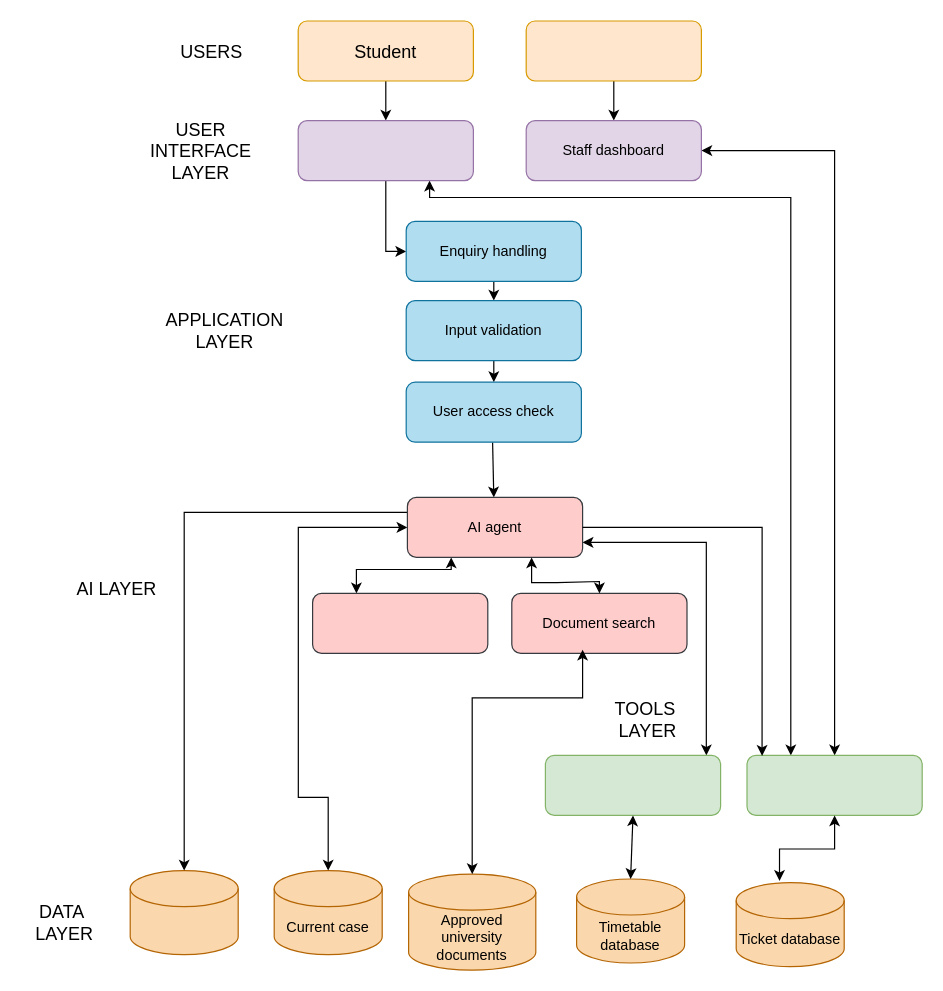
Some shapes in this 943 by 991 pixel diagram are drawn without their labels. The shapes that lost their labels are listed below. From the top down, each one's centre as x and y in pixels, then its label:
At (x=613, y=50): "Support staff".
At (x=385, y=150): "Student web page".
At (x=399, y=622): "Foundation model".
At (x=632, y=784): "Timetable lookup".
At (x=834, y=784): "Ticket management".
At (x=183, y=912): "Activity log".
